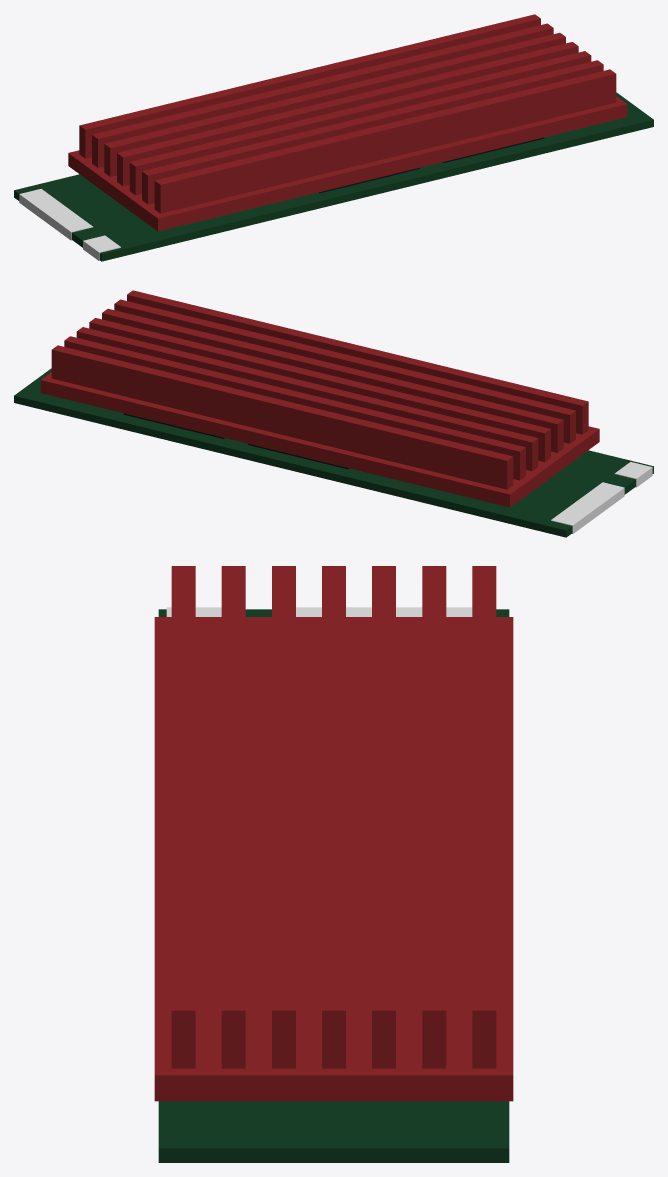
File: hw_sto_nvme3_2tb.glb
3 views of the same model, one above another, from view 1: azimuth 30°, elevation 25°; view 2: azimuth 150°, elevation 25°; view 3: azimuth 270°, elevation 25° (orthographic). The views are drawn at different scales.
Visible parts, largest first — view 1: Body; view 2: Body; view 3: Body.
Part boxes in pixels (left/top/right/bottom): Body: left=14, top=14, right=653, bottom=261; Body: left=14, top=290, right=653, bottom=537; Body: left=154, top=566, right=513, bottom=1162.
Bounding box in the file's own units: 0.0801 × 0.0083 × 0.0225.
